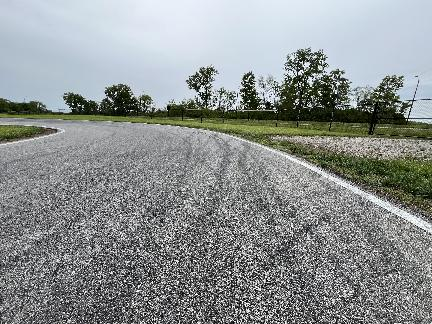Grass: (8, 115, 431, 215), (252, 137, 431, 216), (3, 115, 365, 136), (10, 114, 200, 124), (0, 125, 43, 140)
Lane: (0, 119, 431, 323)
